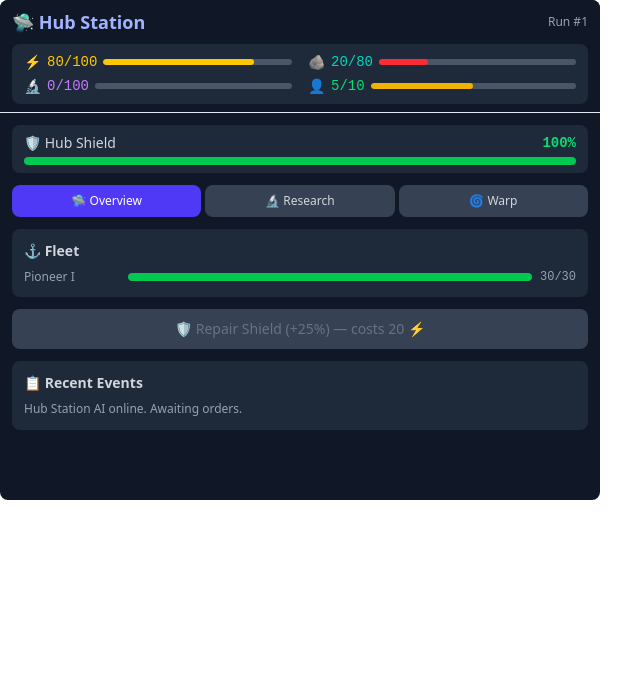
HubStation › shows tiles in region map
Step 1. Click the button "🌀 Warp" → (493, 201), box [399,185,588,217]
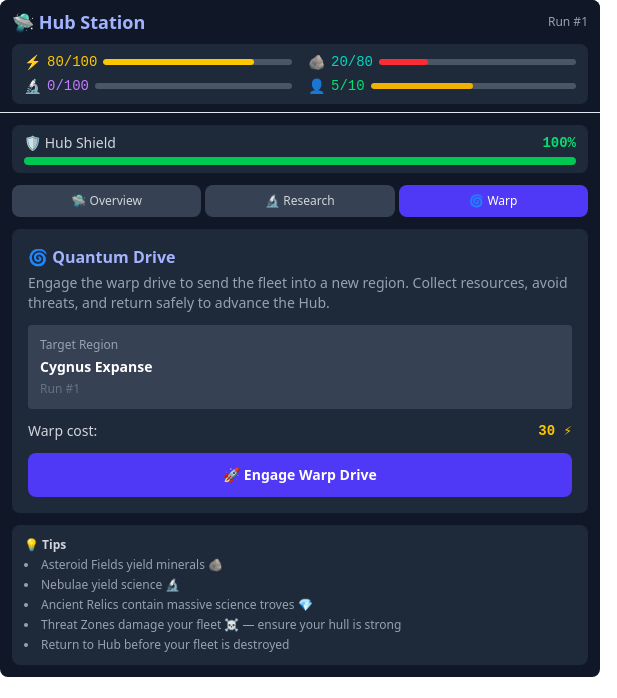
Step 2. Click the button "🚀 Engage Warp Drive" → (300, 475), box [28,453,572,497]
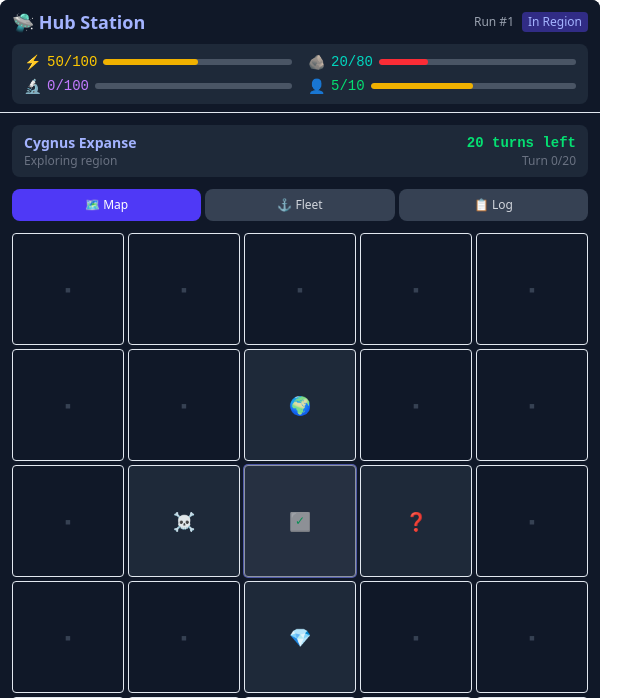
Expected: the text "20 turns left" is shown, [467,133,576,153]
